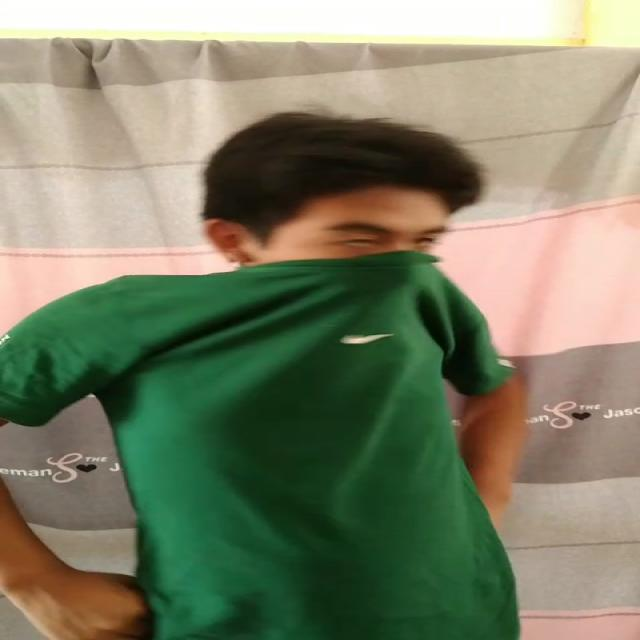8_ropa_rostro: (206, 248, 464, 356)
